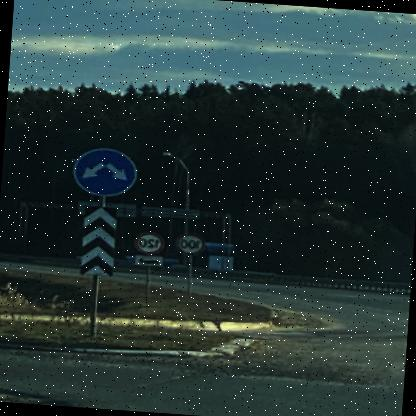speedlimit: (178, 232, 208, 254), (138, 230, 166, 252)
